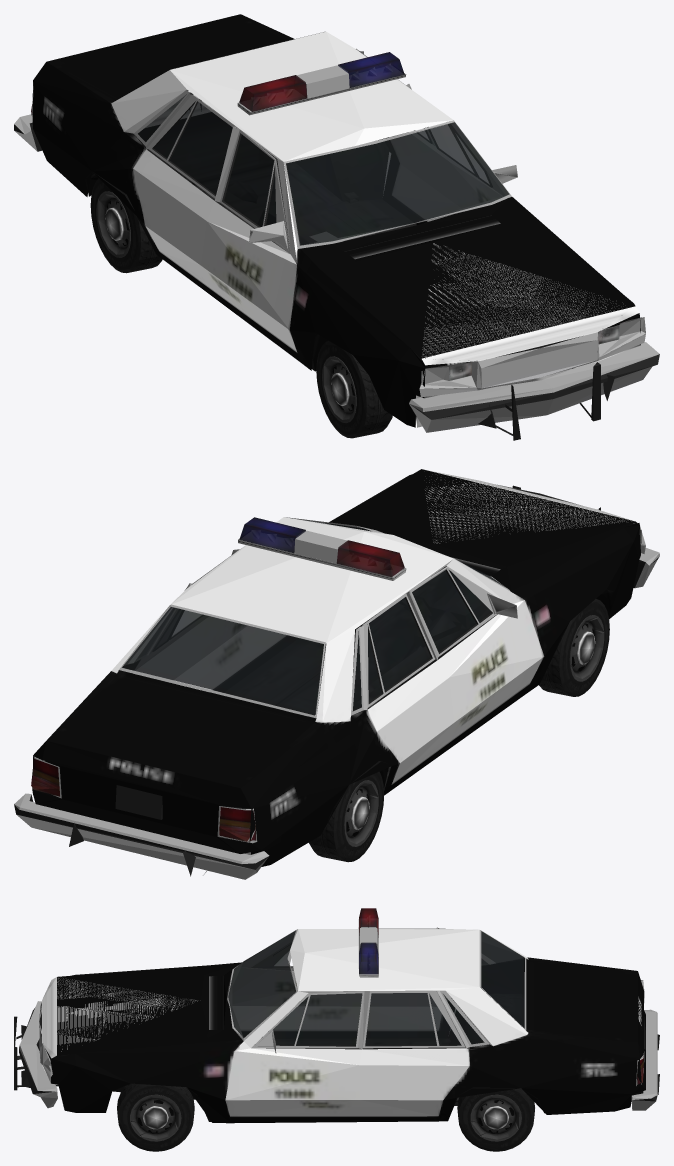
File: police_lo.glb
3 renders of one model, top to bottom at view 1: azimuth 30°, elevation 25°; view 2: azimuth 150°, elevation 25°; view 3: azimuth 270°, elevation 25°, orthographic. The views are drawn at different scales.
Visible parts, largest first — view 1: body, wheel_fr, wheel_rr; view 2: body, wheel_fr, wheel_rr; view 3: body, wheel_fl, wheel_rl.
Part boxes in pixels (x1=…): body: x1=14, y1=14, x2=659, y2=440; wheel_fr: x1=316, y1=340, x2=392, y2=438; wheel_rr: x1=90, y1=178, x2=162, y2=273; body: x1=14, y1=469, x2=659, y2=879; wheel_fr: x1=539, y1=599, x2=609, y2=696; wheel_rr: x1=309, y1=771, x2=384, y2=862; body: x1=14, y1=908, x2=659, y2=1123; wheel_fl: x1=117, y1=1083, x2=194, y2=1151; wheel_rl: x1=457, y1=1088, x2=534, y2=1151.
Bounding box in the file's own units: 1.77 × 1.44 × 4.88.
5 materials, 5 textured.
